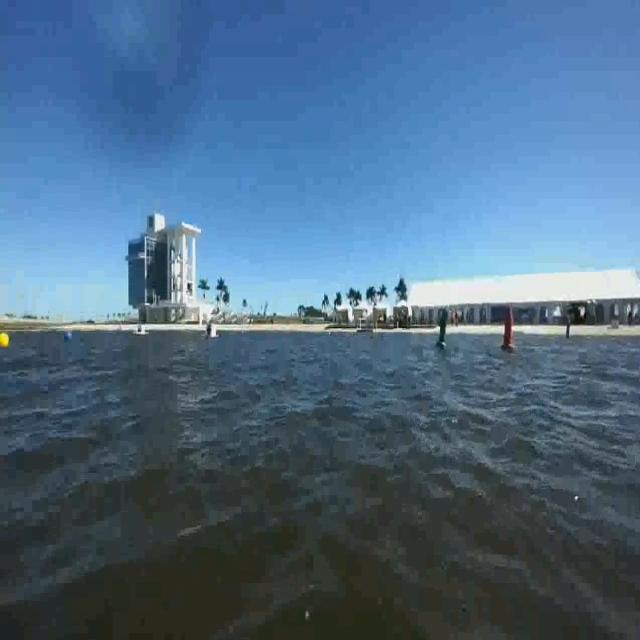green-column-buoy: (436, 306, 452, 353)
red-column-buoy: (501, 298, 516, 357)
yellow-buoy: (0, 333, 10, 351)
